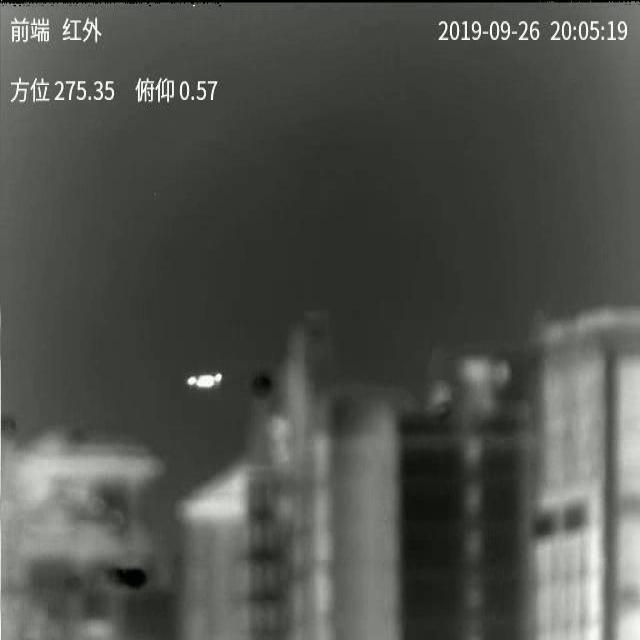drone: (186, 372, 223, 389)
